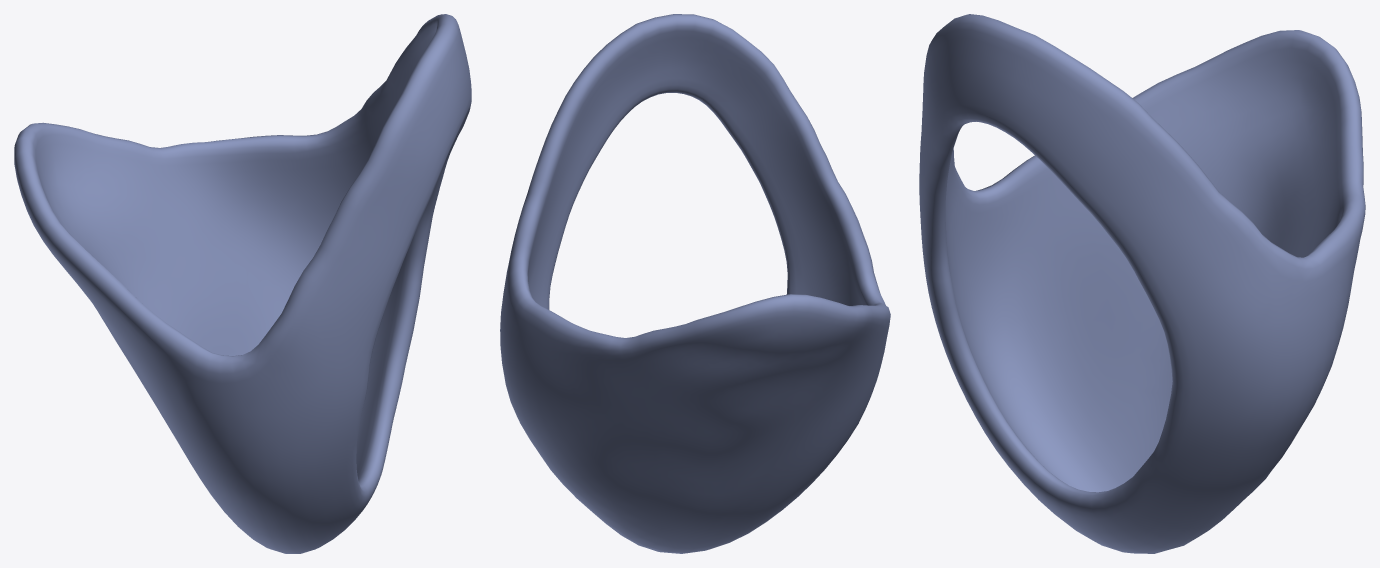
File: TR3_Frame_Classic.001 3.glb
3 renders of one model, left to right at view 1: azimuth 30°, elevation 25°; view 2: azimuth 150°, elevation 25°; view 3: azimuth 270°, elevation 25°, orthographic. The views are drawn at different scales.
Visible parts, largest first — view 1: TR3_Frame_Classic.001; view 2: TR3_Frame_Classic.001; view 3: TR3_Frame_Classic.001.
Boxes of the visible parts, box(x1,y1,x2,y2) form: TR3_Frame_Classic.001: box(14, 14, 471, 553); TR3_Frame_Classic.001: box(500, 14, 890, 553); TR3_Frame_Classic.001: box(919, 14, 1365, 553).
Size of the model in its own units: 0.814 by 1.09 by 0.7826.
